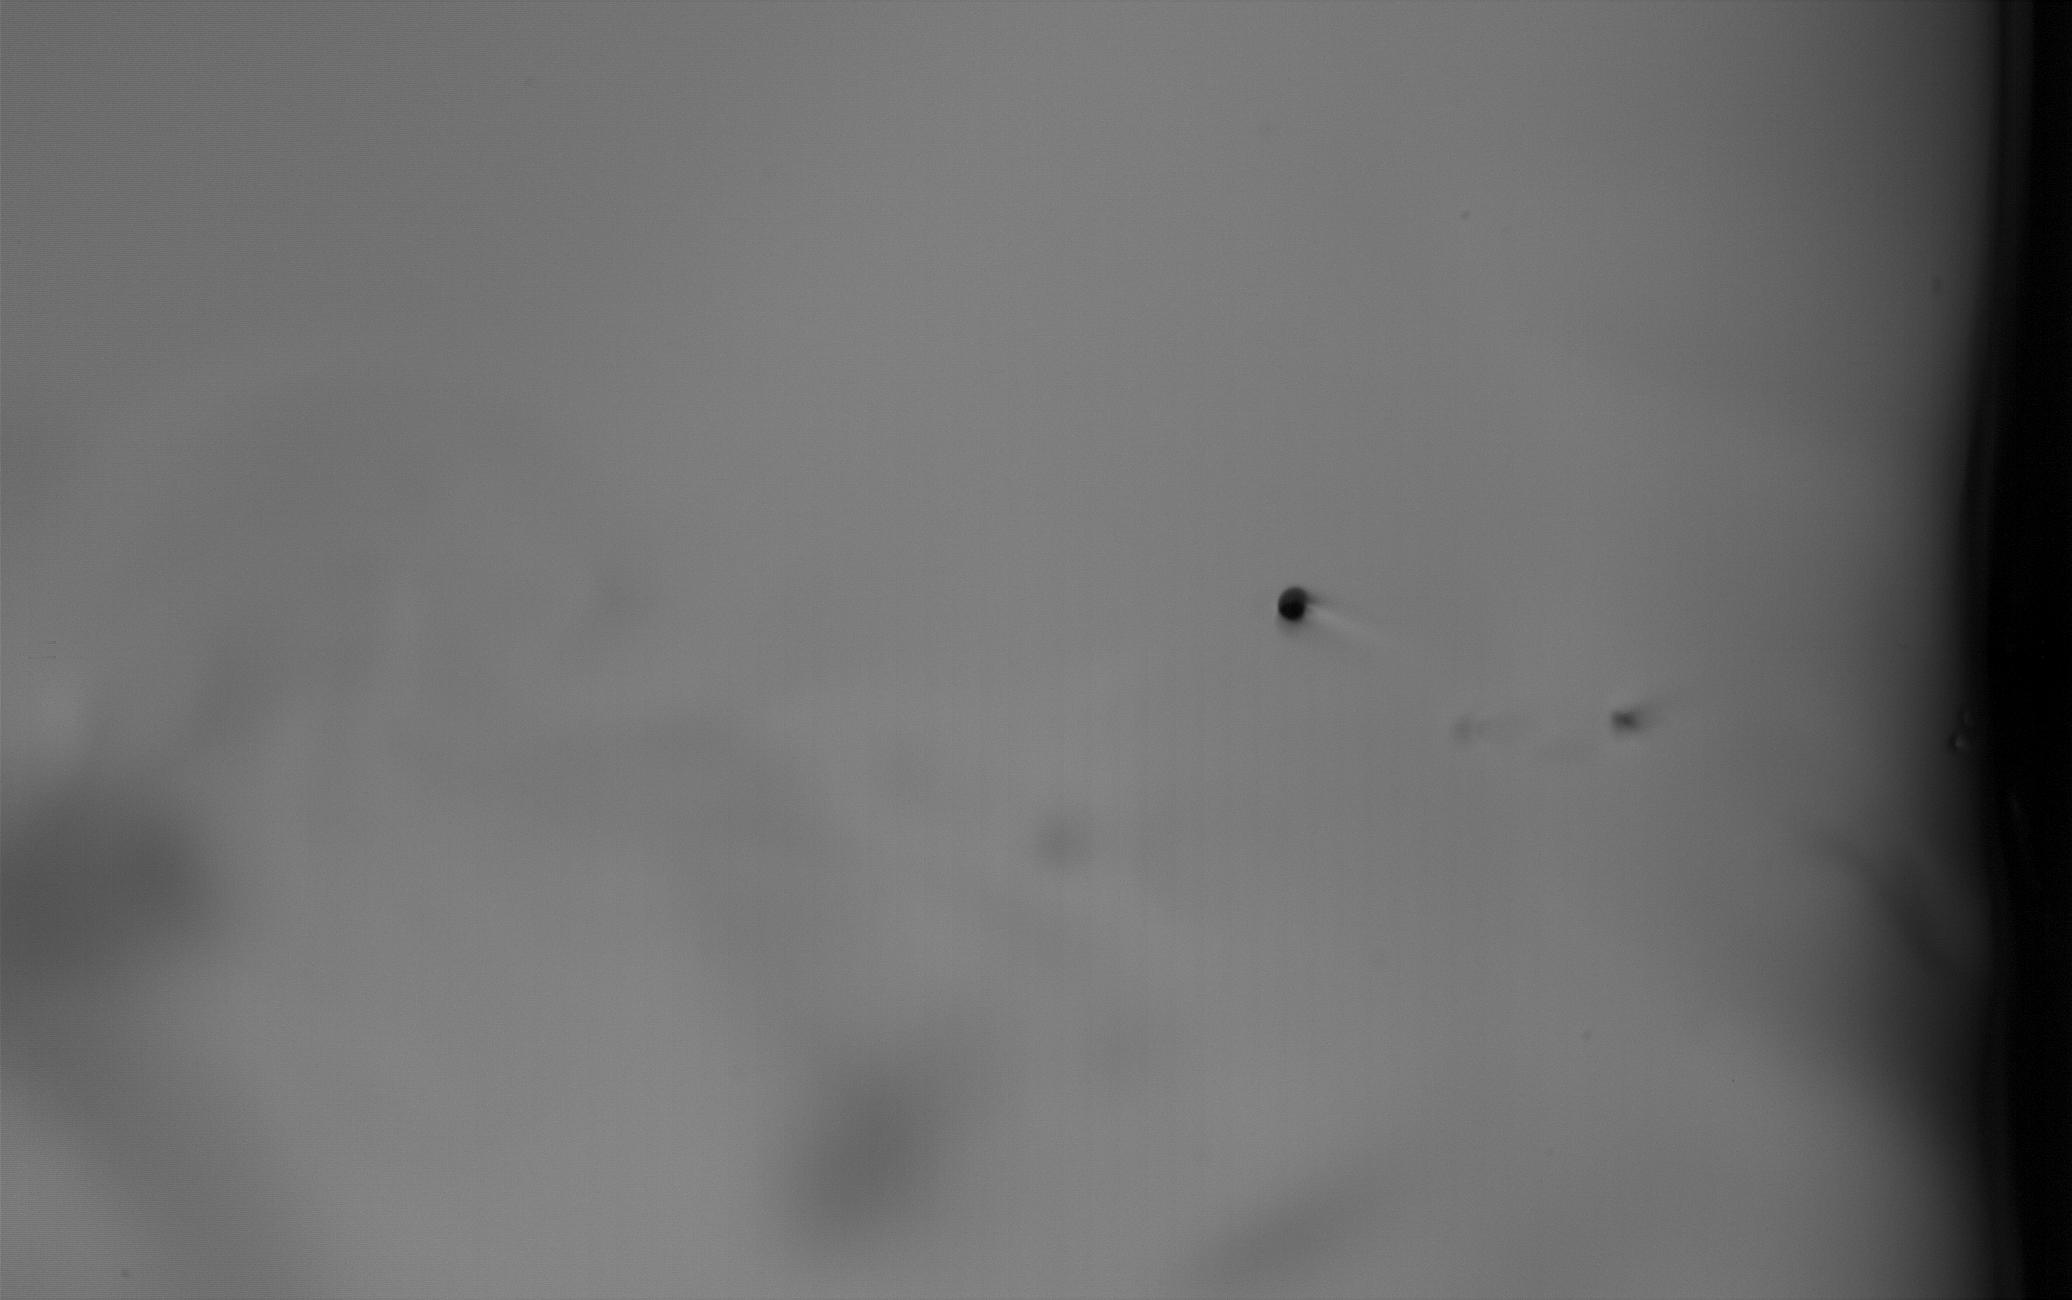Blurry: (1026, 818, 1097, 879)
ClassicalEvaporation: (1276, 583, 1322, 625)
DiffusiveMixing: (1439, 699, 1530, 747)
TransitionalMixing: (1597, 690, 1662, 753)
